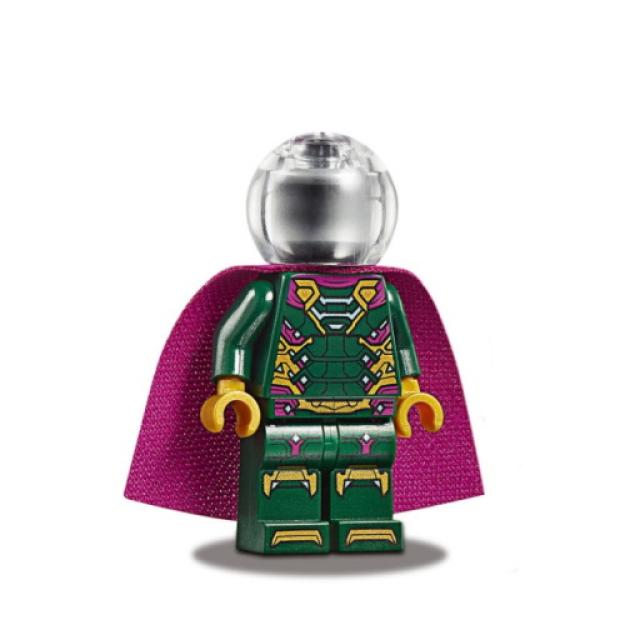Lego-Minifigures: (100, 119, 548, 594)
